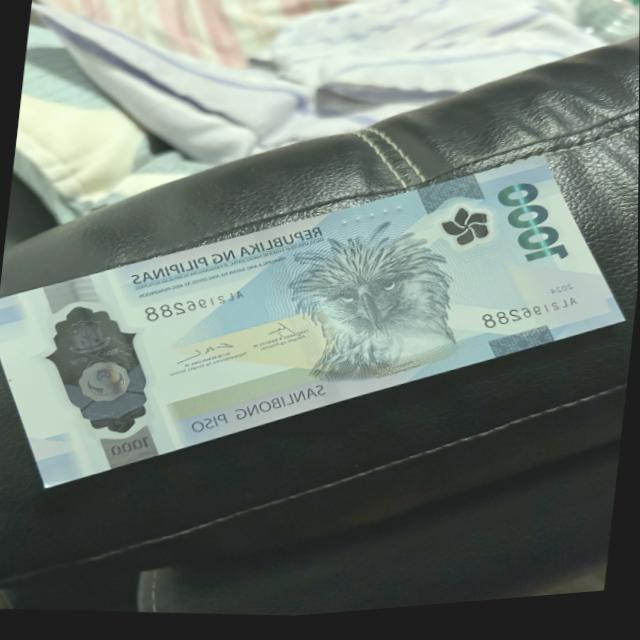clear_window: (30, 297, 157, 457)
eagle: (290, 212, 457, 398)
sampaguita: (436, 209, 493, 260)
